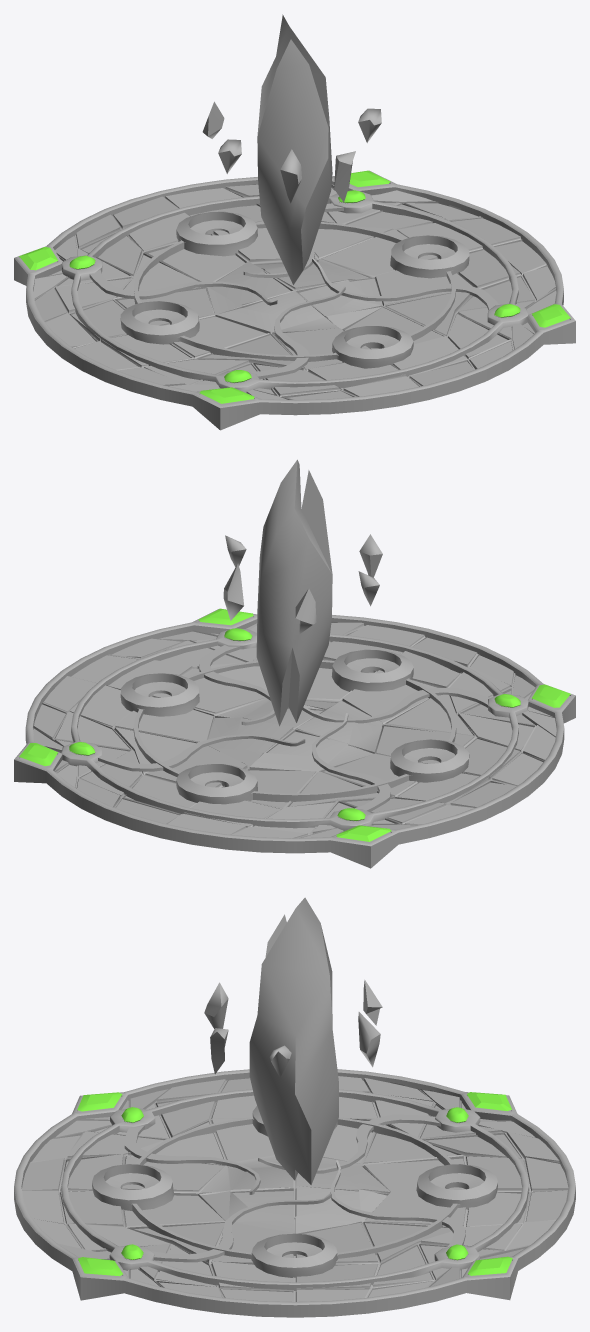
Rendered from AoeV7.fbx.
The picture shows the model from 3 angles, top to bottom: view 1: azimuth 30°, elevation 25°; view 2: azimuth 150°, elevation 25°; view 3: azimuth 270°, elevation 25°; orthographic projection. The views are drawn at different scales.
Parts seen in each view (by area): view 1: TiledFloor, polymsh18, Inner_RIng, cube1, polymsh19, Hook1, Hook3, Hook, octahedron3, octahedron, Diamond_BotLeft, Diamond_BotRight1 (+3 smaller); view 2: TiledFloor, polymsh18, cube1, Inner_RIng, polymsh19, Hook2, Hook, Hook1, Hook3, octahedron5, octahedron2, octahedron (+4 smaller); view 3: TiledFloor, cube1, polymsh18, Inner_RIng, polymsh19, Hook3, Hook2, Hook, Hook1, octahedron5, octahedron, Diamond_BotLeft (+4 smaller).
Boxes of the visible parts, bbox=[...] form: TiledFloor: bbox=[33, 184, 556, 399]; polymsh18: bbox=[14, 170, 575, 430]; Inner_RIng: bbox=[120, 211, 469, 368]; cube1: bbox=[257, 14, 332, 284]; polymsh19: bbox=[61, 190, 527, 392]; Hook1: bbox=[89, 269, 277, 305]; Hook3: bbox=[312, 258, 499, 310]; Hook: bbox=[249, 286, 345, 379]; octahedron3: bbox=[334, 151, 355, 202]; octahedron: bbox=[280, 149, 301, 203]; Diamond_BotLeft: bbox=[199, 387, 254, 403]; Diamond_BotRight1: bbox=[532, 304, 570, 327]; TiledFloor: bbox=[33, 621, 556, 838]; polymsh18: bbox=[14, 608, 575, 868]; cube1: bbox=[256, 459, 332, 726]; Inner_RIng: bbox=[120, 649, 469, 804]; polymsh19: bbox=[61, 628, 528, 831]; Hook2: bbox=[98, 734, 305, 771]; Hook: bbox=[302, 688, 489, 723]; Hook1: bbox=[312, 713, 390, 811]; Hook3: bbox=[199, 645, 275, 725]; octahedron5: bbox=[223, 563, 244, 620]; octahedron2: bbox=[295, 588, 316, 633]; octahedron: bbox=[359, 534, 382, 577]; TiledFloor: bbox=[22, 1076, 568, 1301]; cube1: bbox=[249, 897, 338, 1184]; polymsh18: bbox=[14, 1069, 575, 1317]; Inner_RIng: bbox=[92, 1106, 497, 1277]; polymsh19: bbox=[61, 1089, 528, 1290]; Hook3: bbox=[151, 1193, 331, 1262]; Hook2: bbox=[330, 1160, 465, 1247]; Hook: bbox=[124, 1125, 260, 1194]; Hook1: bbox=[258, 1114, 440, 1173]; octahedron5: bbox=[358, 1012, 380, 1067]; octahedron: bbox=[204, 982, 228, 1028]; Diamond_BotLeft: bbox=[77, 1092, 122, 1111].
Size of the model in its own units: 0.4885 by 0.2961 by 0.4885.
